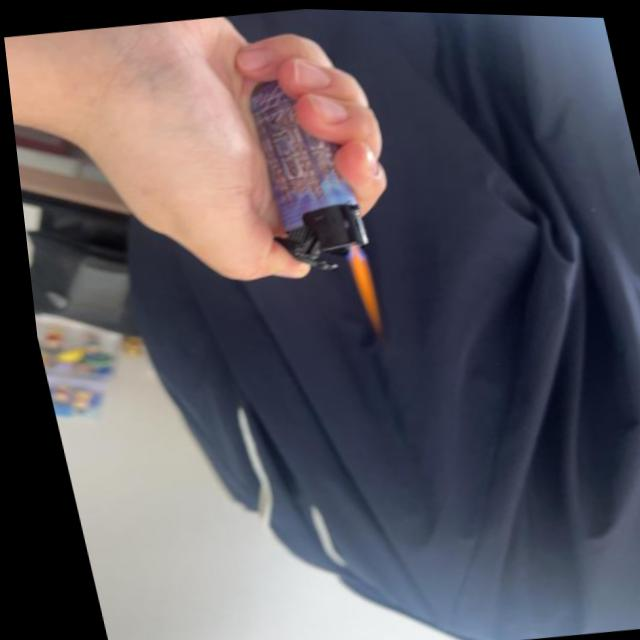Fire: (335, 245, 380, 333)
